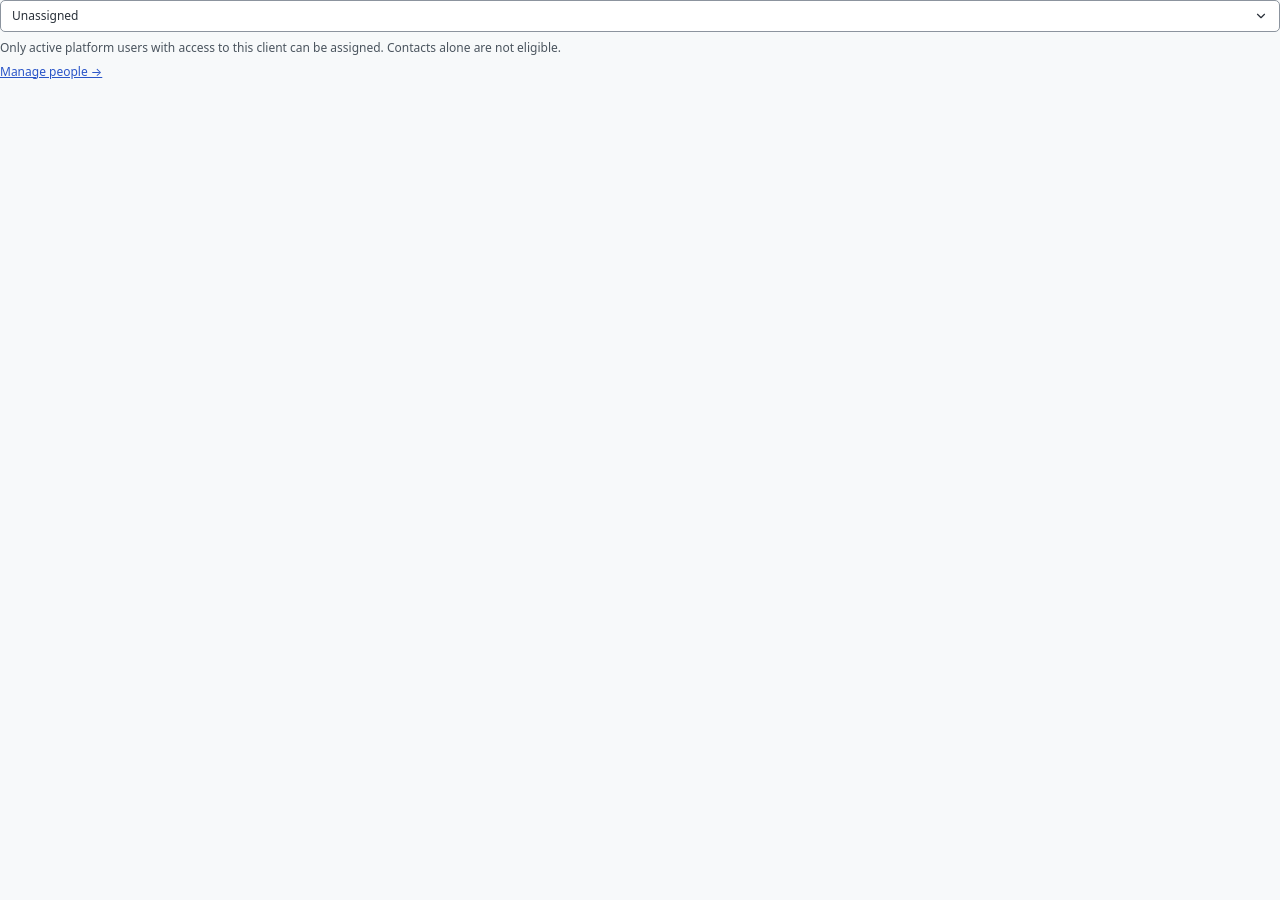
failed request shows retry and never supplies directory fallback
Click the button "Unassigned" at (45, 16), box [0,0,1279,32]
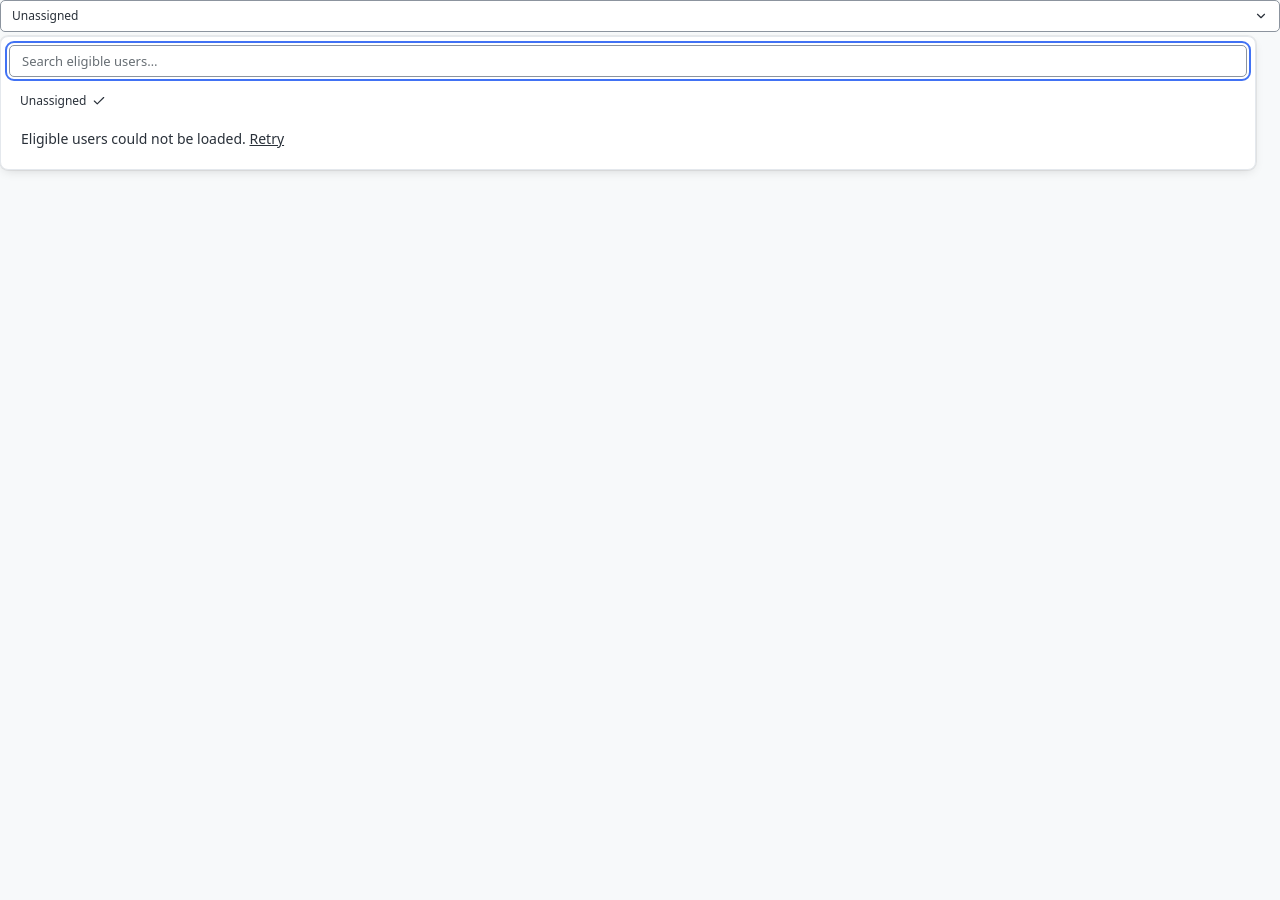
Expected: the text "Eligible users could not be loaded." is shown, [21,129,250,148]
